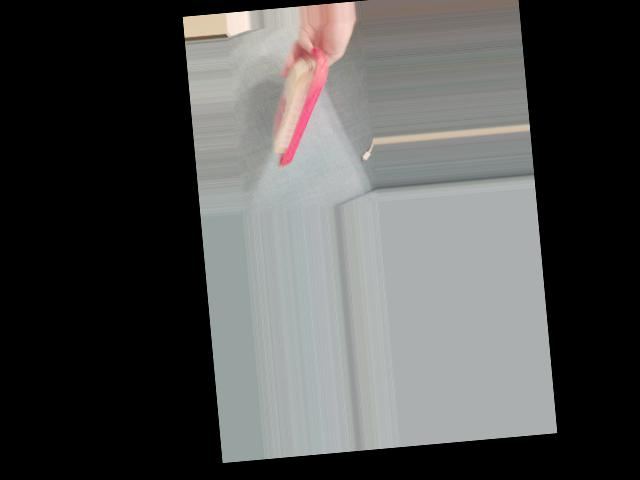cheese: (259, 45, 342, 168)
